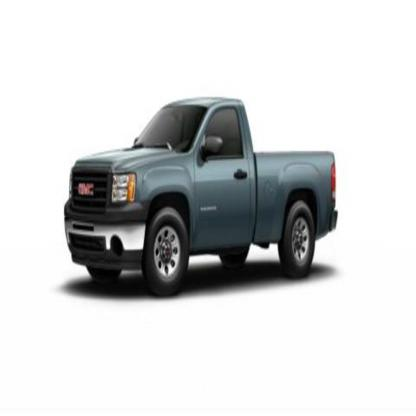Truck: (64, 97, 338, 297)
